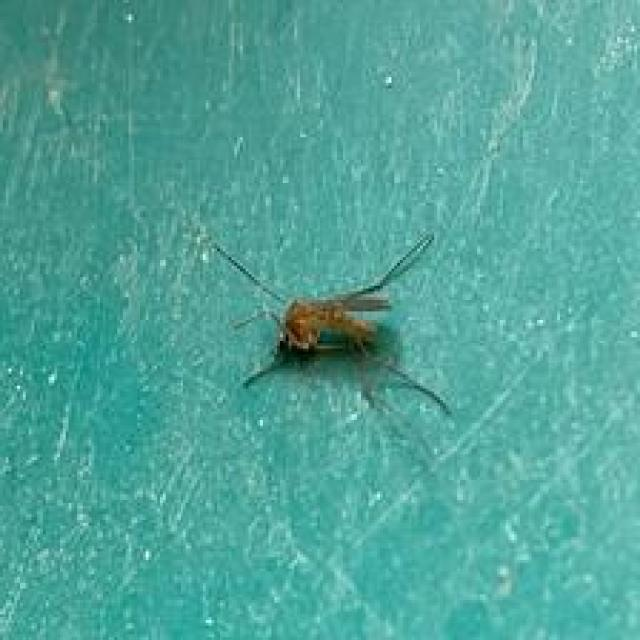Culex: (209, 230, 454, 427)
